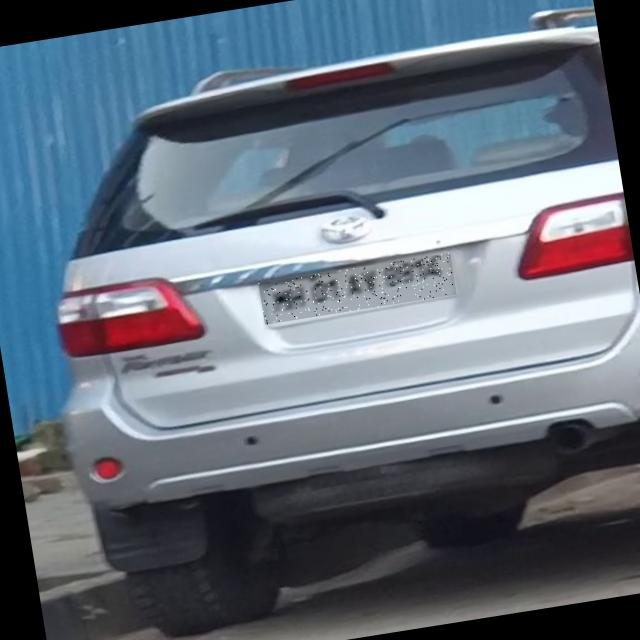Plate: (260, 254, 458, 326)
